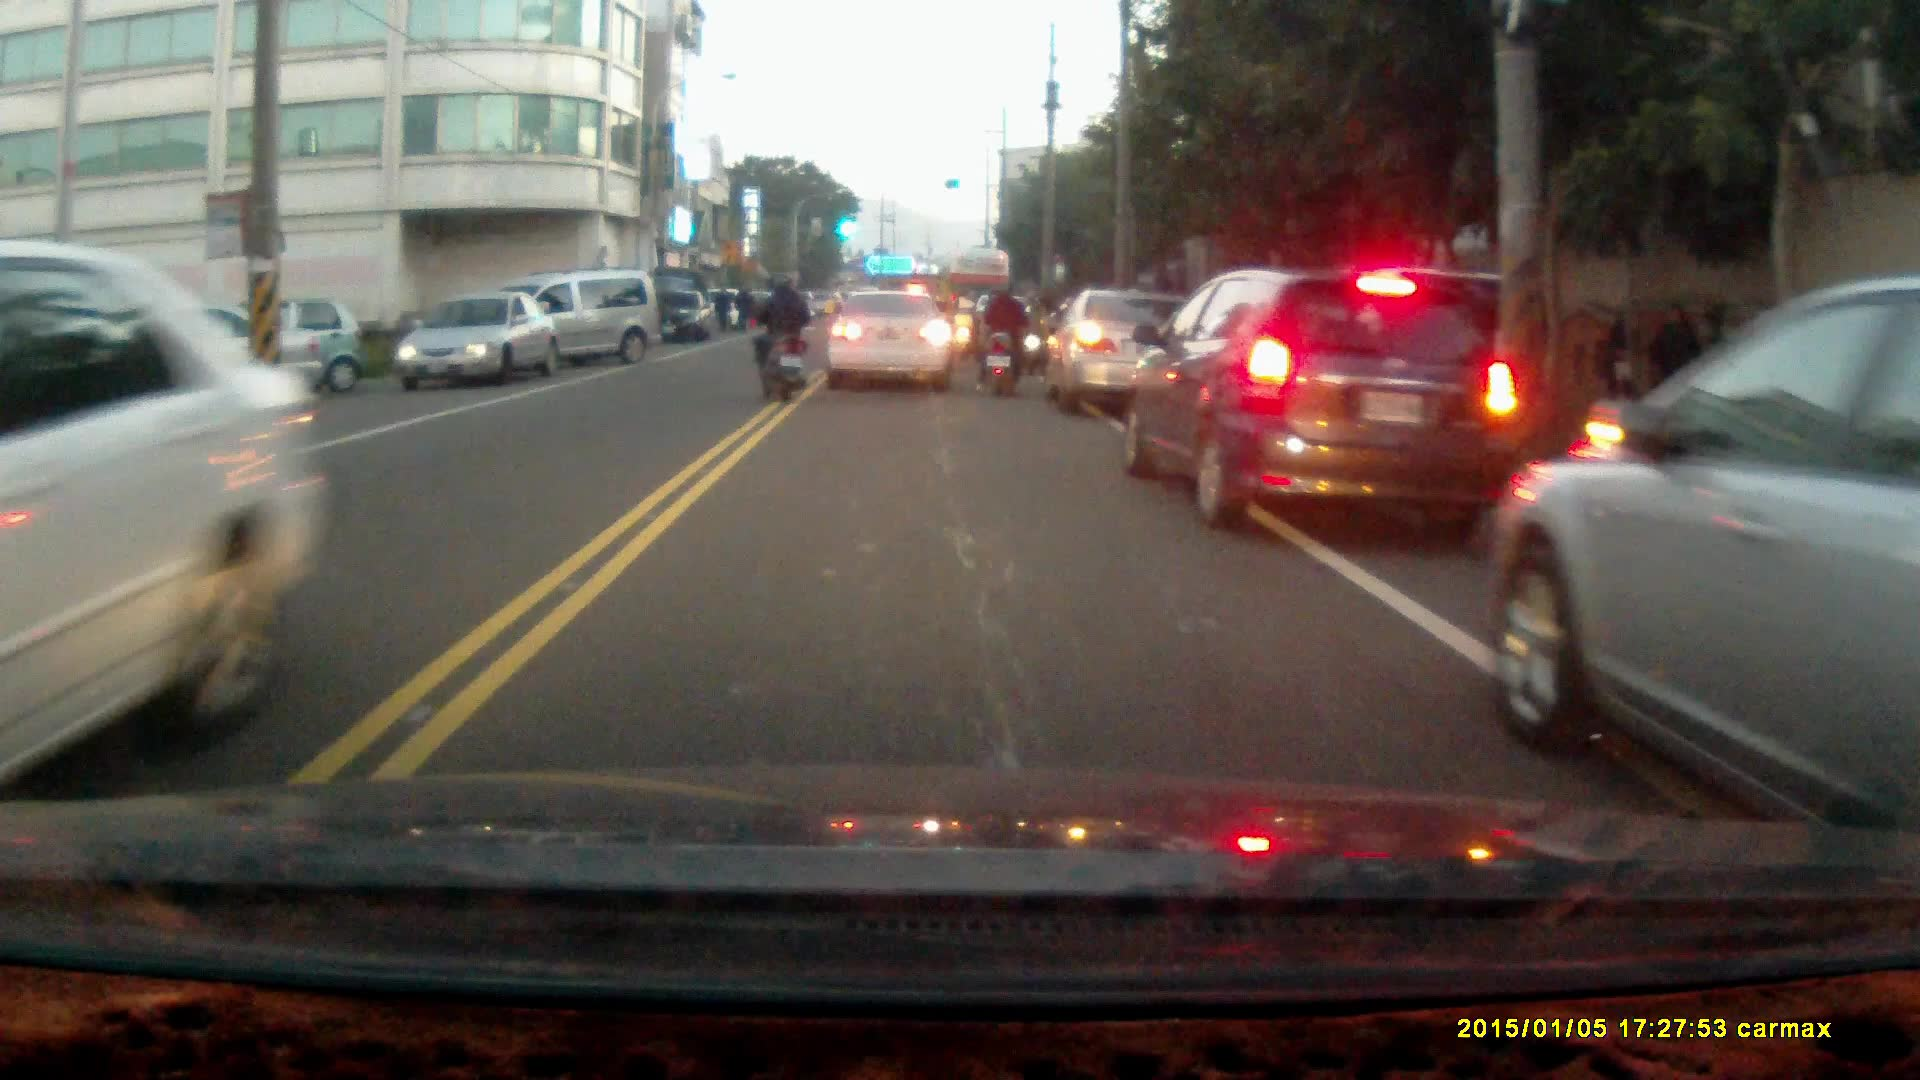pedestrian: (1650, 301, 1704, 438), (1597, 304, 1644, 444)
rider: (751, 276, 812, 401), (972, 273, 1031, 400)
vehicle: (1483, 273, 1920, 855), (1, 246, 301, 813), (1115, 265, 1522, 533), (1046, 290, 1192, 415), (498, 269, 663, 373), (394, 288, 559, 391), (828, 289, 952, 398), (655, 290, 711, 345)
